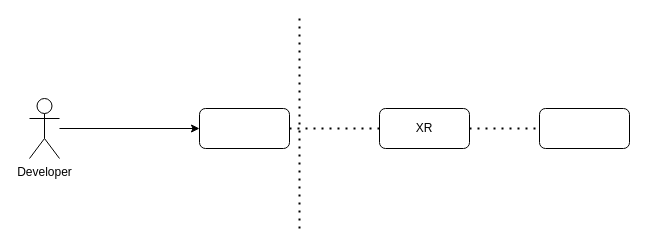
The diagram is 647 pixels wide and 247 high, and some of its shapes have lost their labels. Each missing label, with the centre of its shape:
"Interface" goes at (244,128).
"XRD" goes at (584,128).
